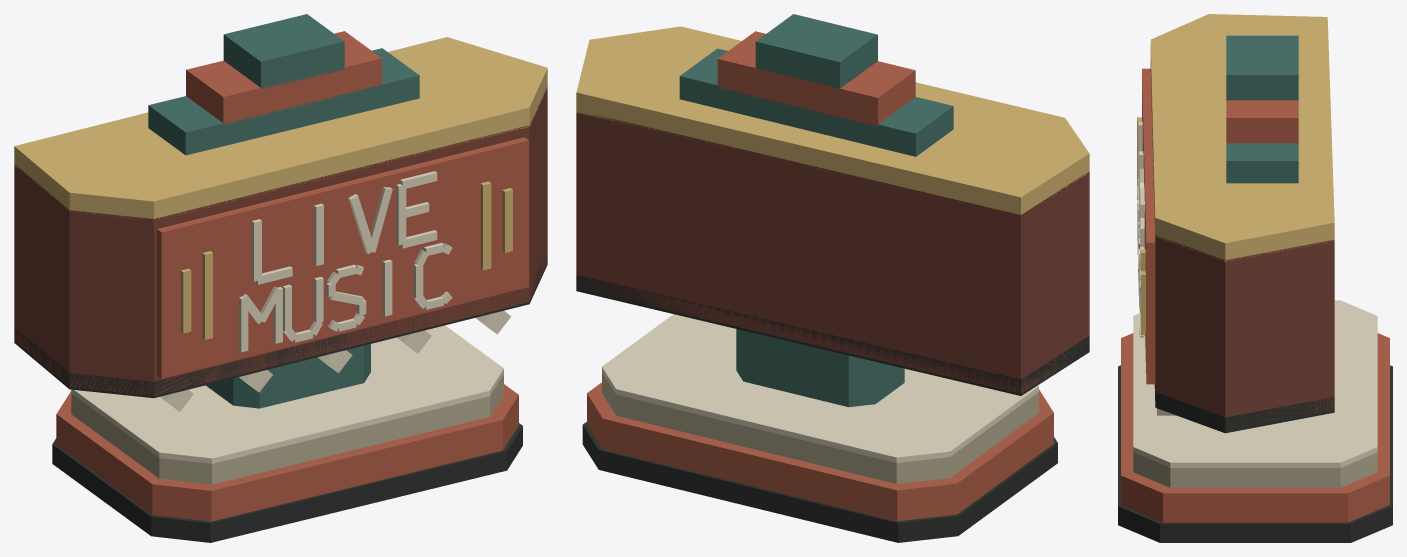
Rendered from marquee.glb.
The picture shows the model from 3 angles, left to right: view 1: azimuth 30°, elevation 25°; view 2: azimuth 150°, elevation 25°; view 3: azimuth 270°, elevation 25°; orthographic projection. The views are drawn at different scales.
Visible parts, largest first — view 1: Club marquee; view 2: Club marquee; view 3: Club marquee.
Boxes of the visible parts, box(x1,y1,x2,y2) form: Club marquee: box(14, 14, 547, 542); Club marquee: box(576, 14, 1089, 542); Club marquee: box(1118, 14, 1392, 542).
Bounding box in the file's own units: 2.33 × 1.89 × 1.18.
